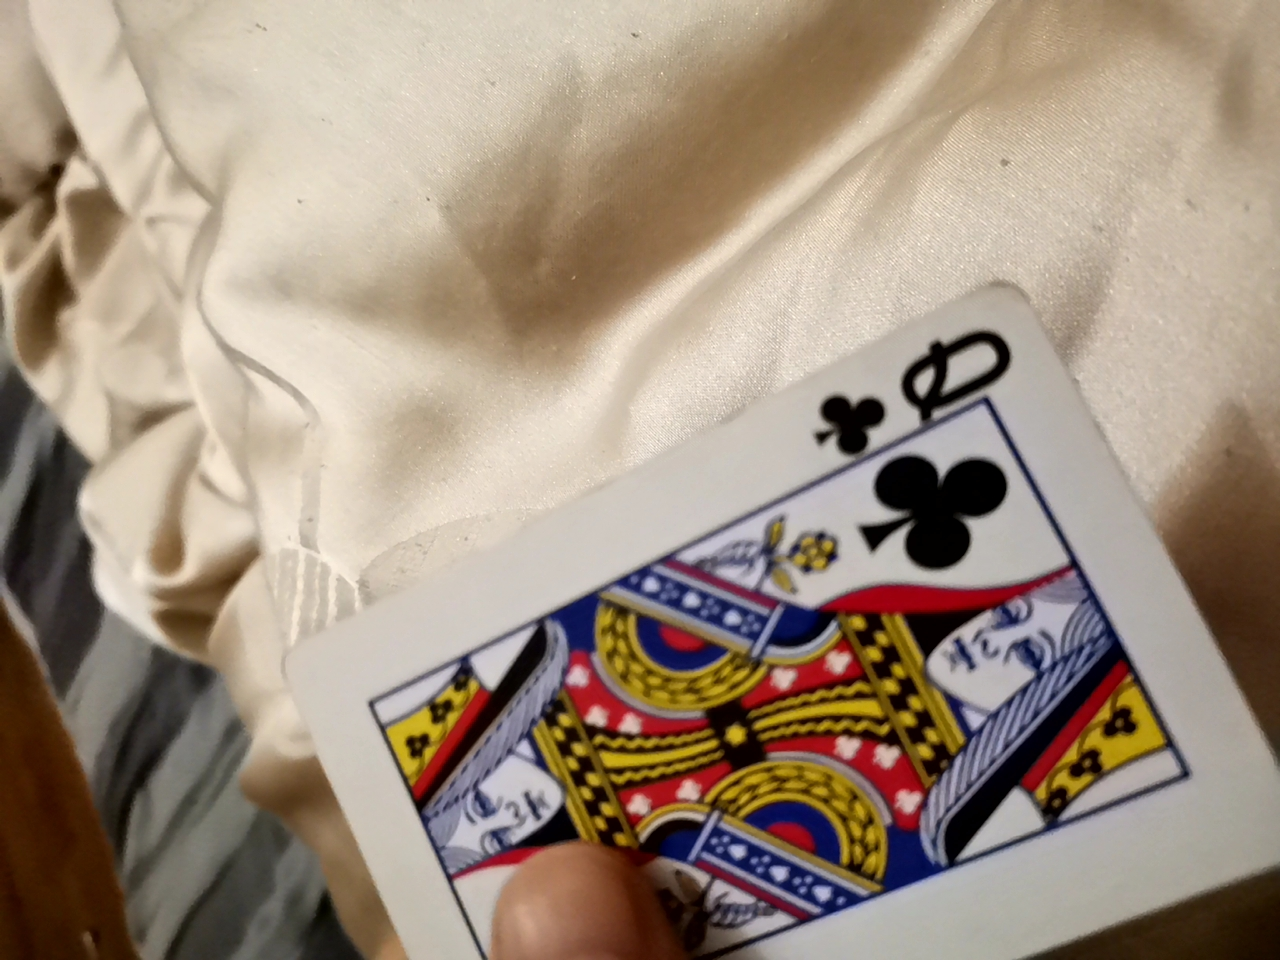mh q: (281, 250, 1270, 952)
